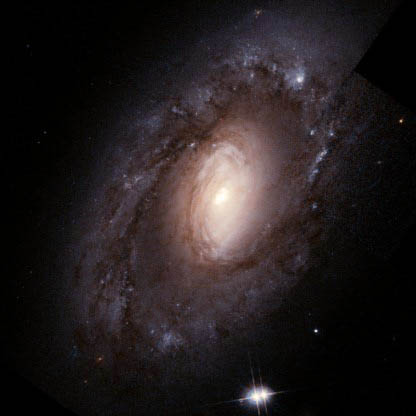NGC 4102: (39, 25, 385, 409)
